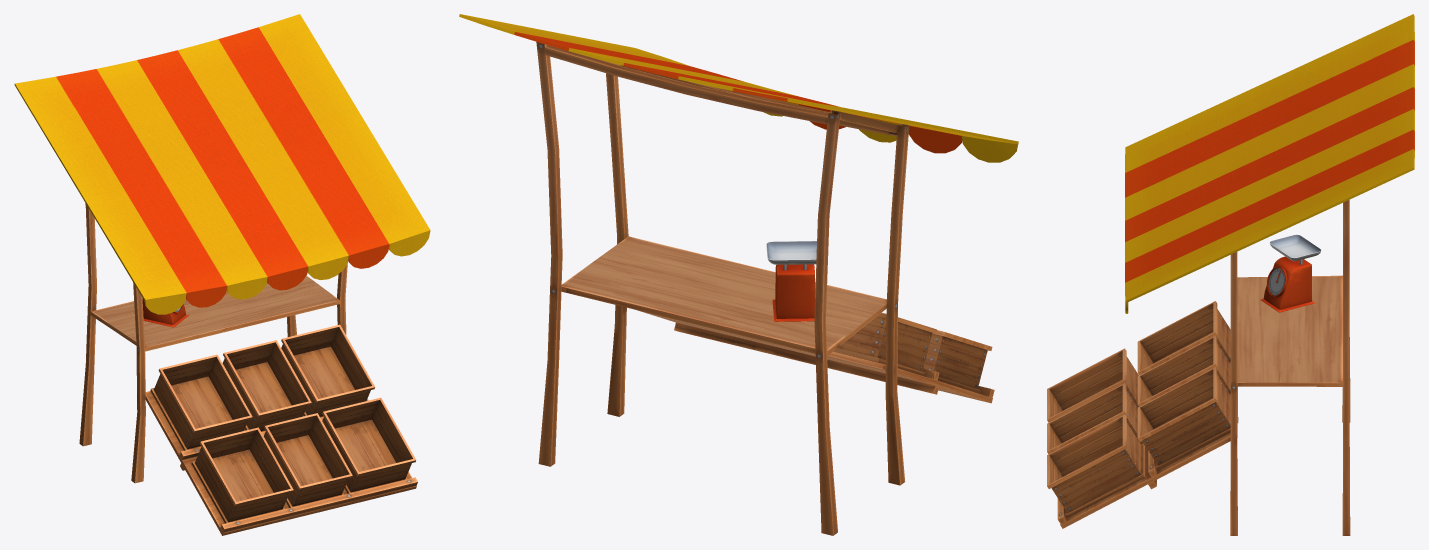
File: Market01_1.FBX
3 views of the same model, side by side, from view 1: azimuth 30°, elevation 25°; view 2: azimuth 150°, elevation 25°; view 3: azimuth 270°, elevation 25° (orthographic). The views are drawn at different scales.
Parts seen in each view (by area): view 1: Market01_1; view 2: Market01_1; view 3: Market01_1.
Part boxes in pixels (x1,y1,x2,y2): Market01_1: (14, 14, 430, 535); Market01_1: (459, 14, 1018, 535); Market01_1: (1047, 14, 1414, 535).
Size of what is drawn, in the model's own units: 2.43 by 2.83 by 2.46.
